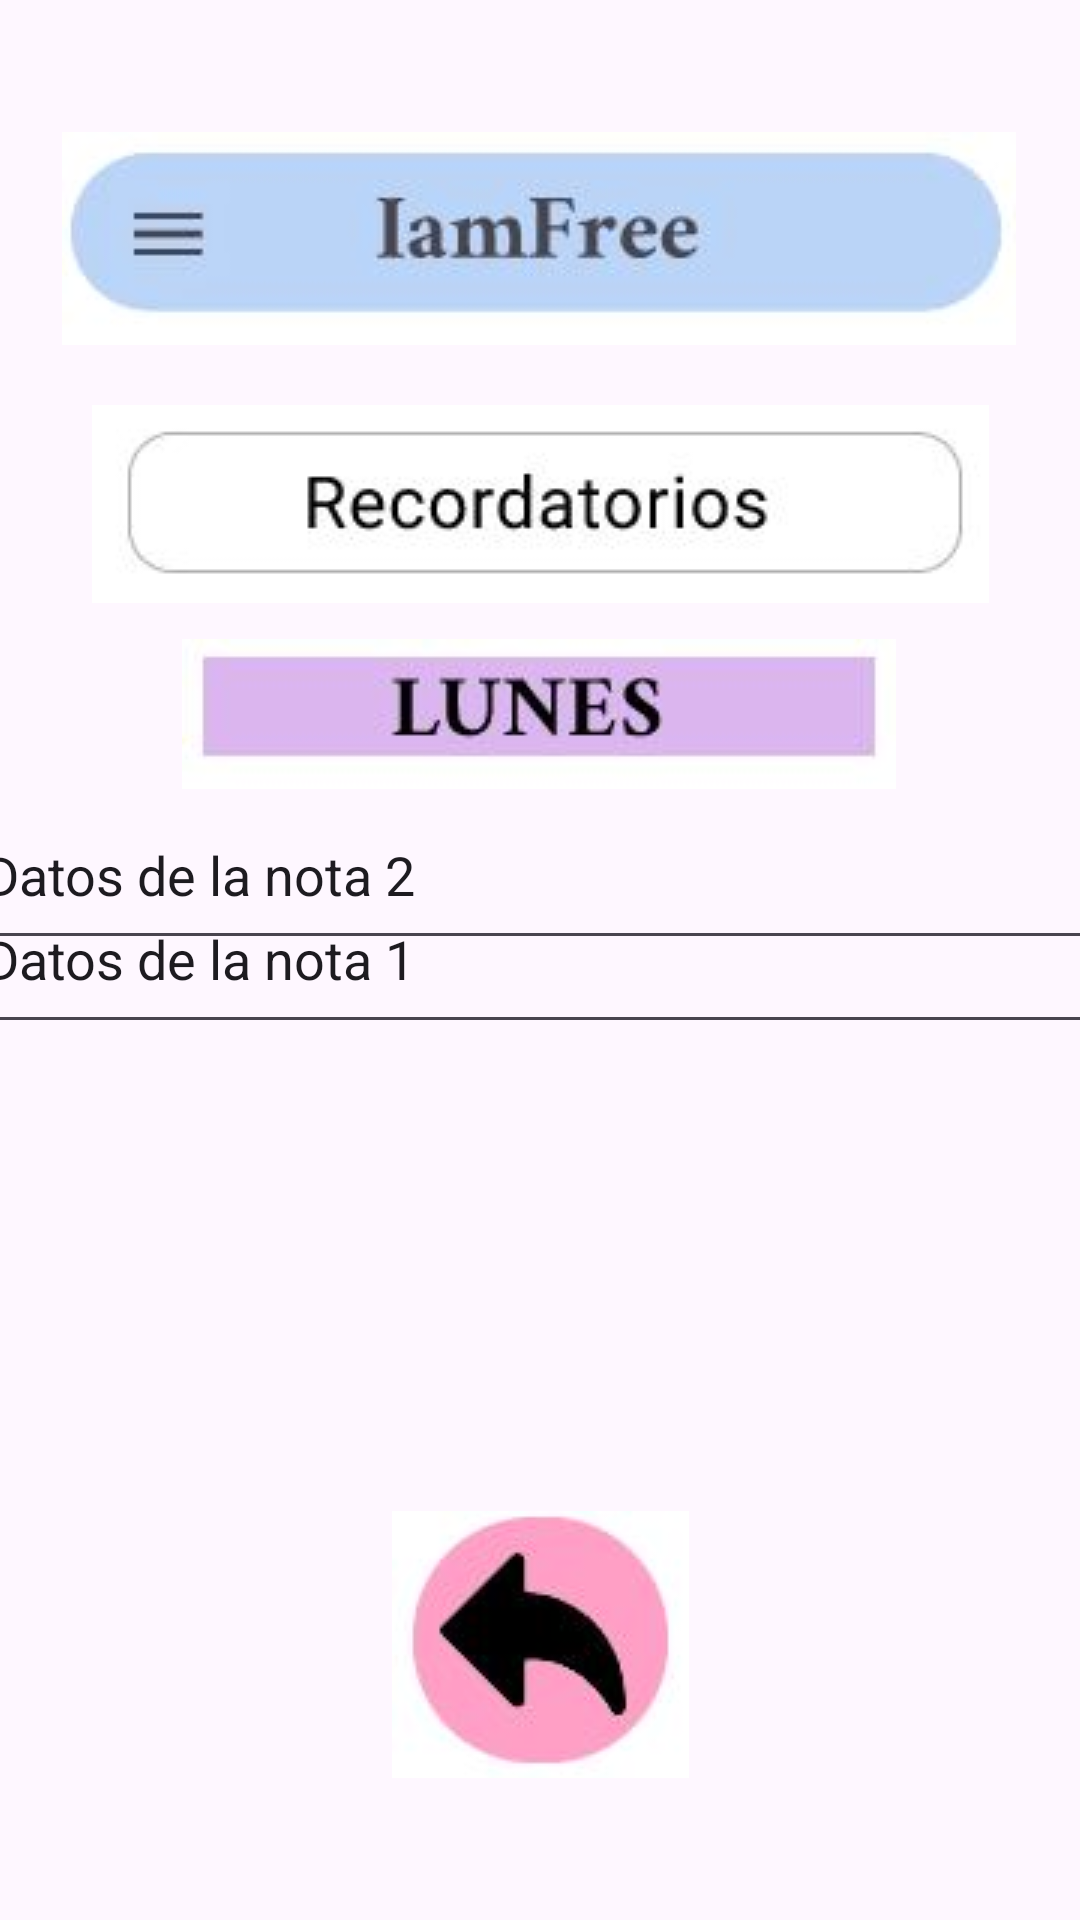

Icon click points for this 1080×1920 phone screenshot, format [x,y]:
atras: [540,1640]
